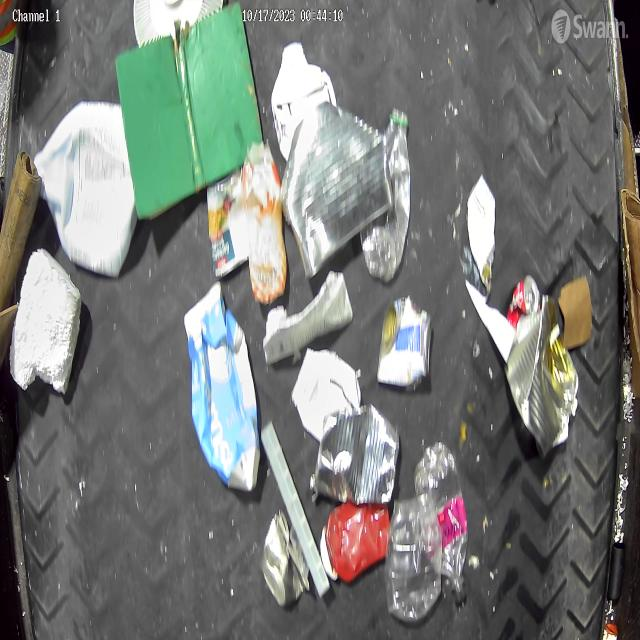can: (280, 101, 394, 280), (504, 294, 578, 460), (314, 404, 402, 507), (377, 297, 432, 388), (207, 167, 249, 279), (263, 509, 309, 608), (507, 273, 541, 327)
milk_jug: (33, 99, 134, 276)
non_white_jug: (184, 282, 261, 490)
plastic_bottle: (414, 440, 468, 602), (361, 108, 410, 282)
